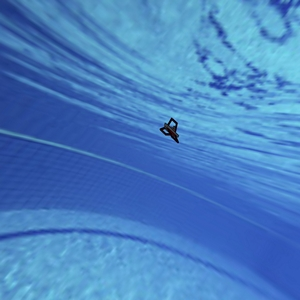submarine: (150, 105, 188, 153)
